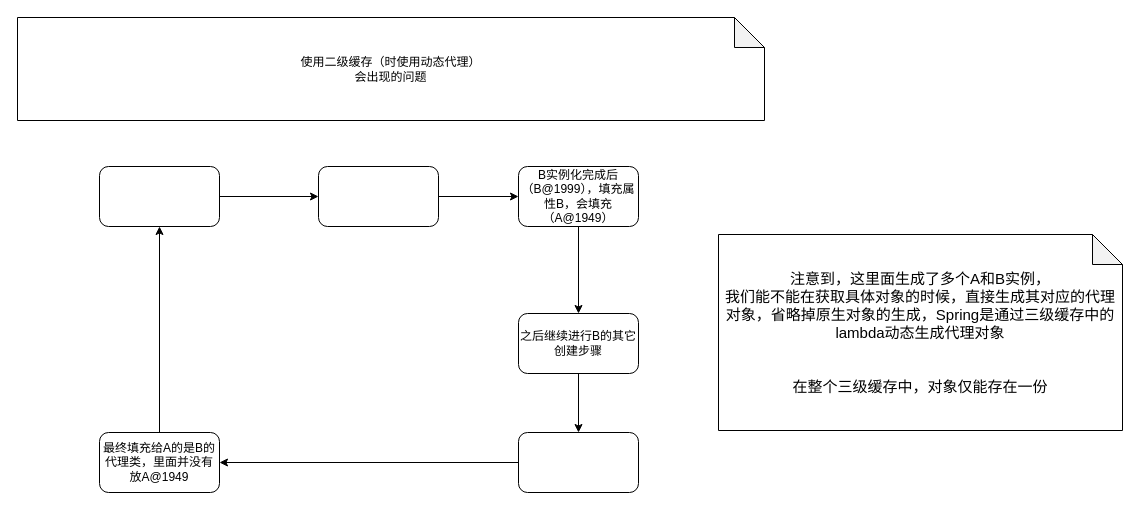
Image size: 1140x510. Some labels were removed from this diagram. The shapes that lost their labels are listed below. From the top down, each one's box as (x1, y1, x2, y2) in pixels, then its label:
(98, 166, 220, 226): A实例化完成（A@1949）， 需要填充属性B的时候
(318, 166, 438, 226): B还没有实例化， 这个时候去创建B
(518, 432, 638, 492): 会在BPP.after()中生成B的代理类
